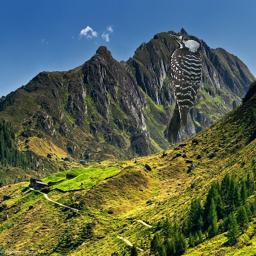Woodpecker: (165, 31, 205, 145)
